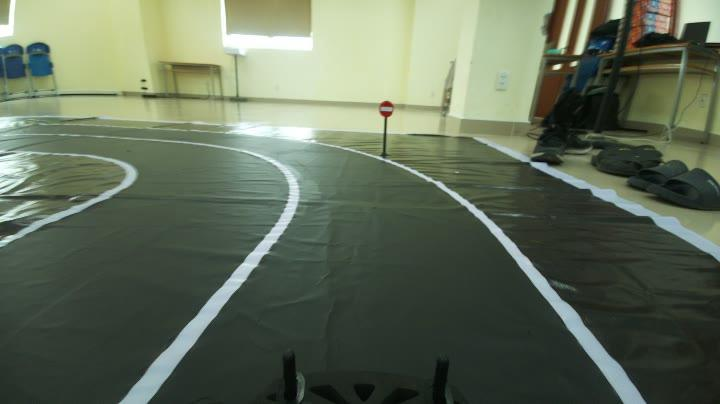no_entry: (378, 94, 394, 118)
